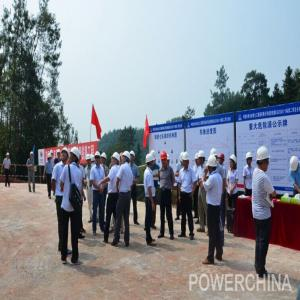red: (160, 152, 169, 168), (218, 154, 226, 165)
white: (257, 148, 271, 172), (69, 147, 81, 165), (207, 156, 219, 173), (291, 156, 300, 174), (199, 150, 208, 166), (146, 155, 155, 171), (112, 152, 121, 167), (183, 153, 191, 169), (62, 147, 70, 163), (122, 151, 131, 165), (245, 153, 254, 166), (229, 156, 238, 169), (151, 150, 158, 165), (95, 151, 102, 165), (102, 153, 109, 166), (86, 154, 93, 167), (130, 152, 136, 165), (167, 154, 171, 167), (57, 150, 62, 159), (48, 154, 53, 163), (51, 150, 55, 159), (7, 152, 11, 160), (31, 152, 35, 159)
